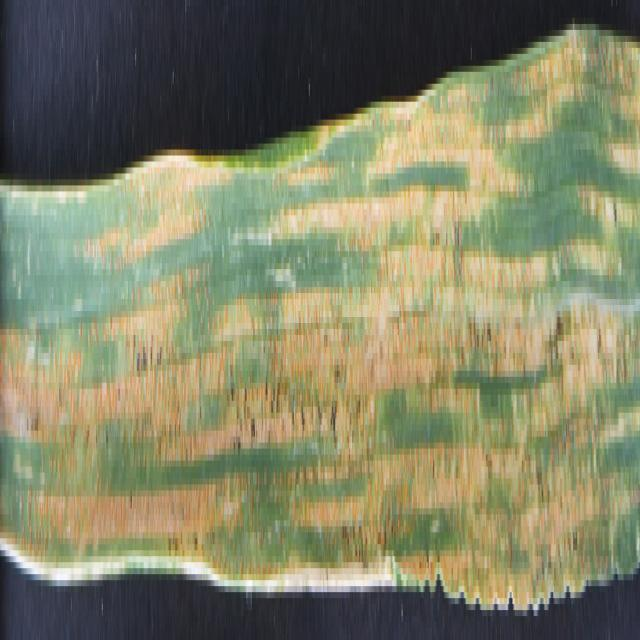leaf rust: (1, 132, 630, 574)
